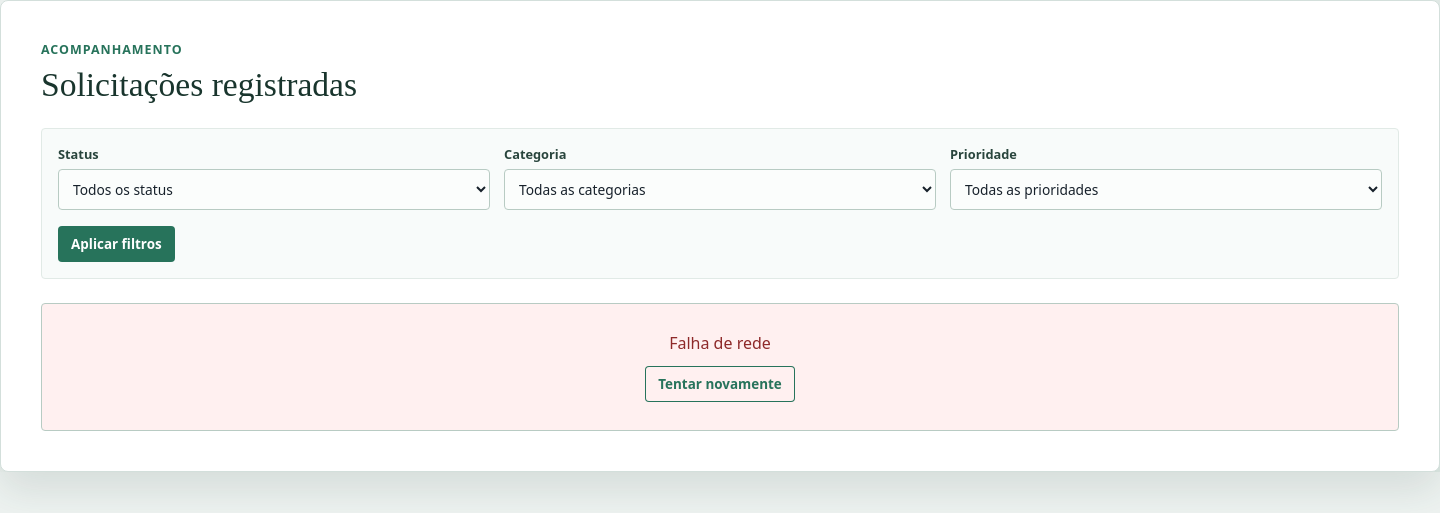
Test: SolicitacaoList › exibe um botão de tentar novamente quando a listagem falha
Expected: the message shows "Falha de rede", [669,332,771,354]
Click the button "Tentar novamente" at (720, 384), box [645,366,795,402]
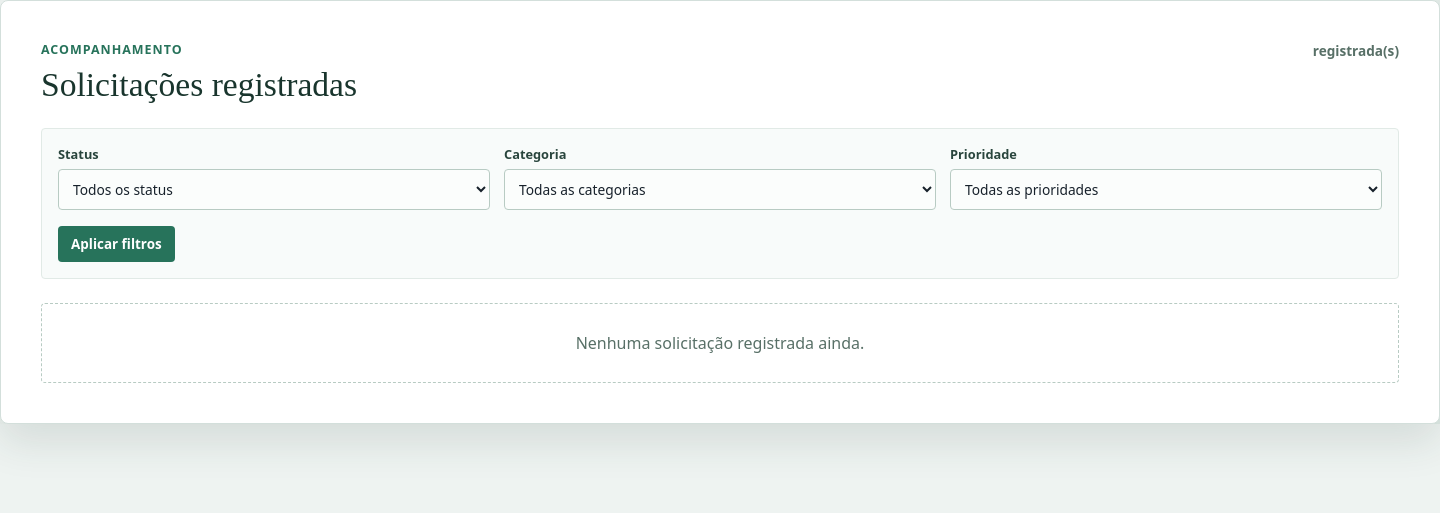
Expected: the text "Nenhuma solicitação registrada ainda." is shown, [41,303,1399,383]
